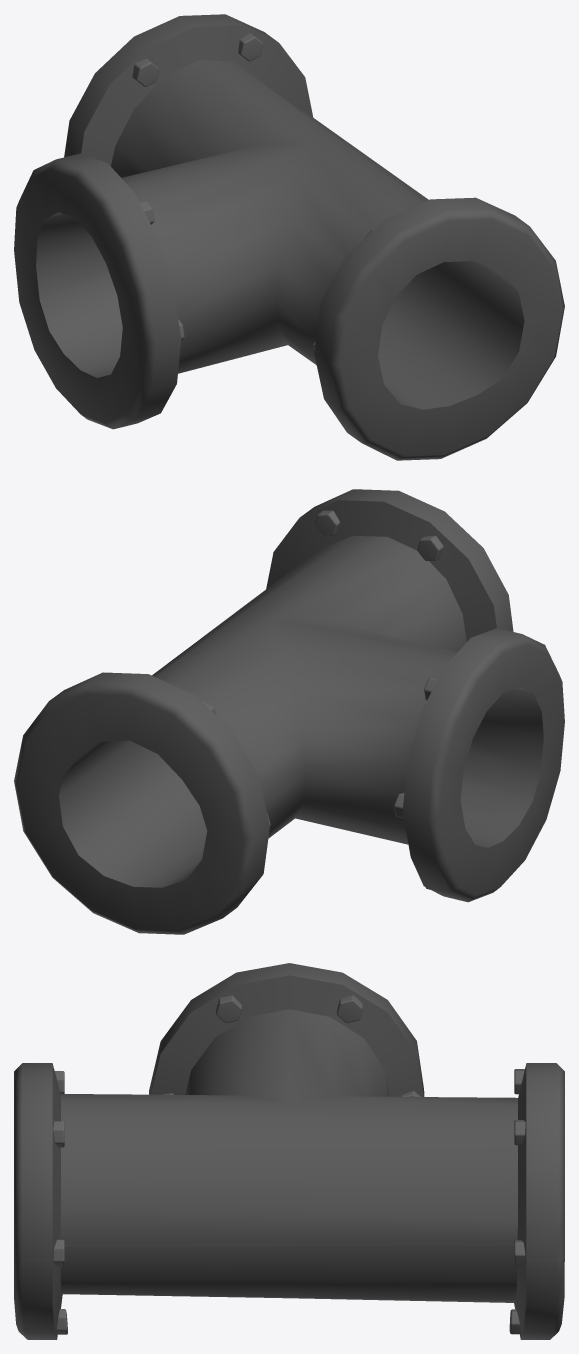
The model's file is SM_tuyau_T_low (1).fbx.
3 views of the same model, one above another, from view 1: azimuth 30°, elevation 25°; view 2: azimuth 150°, elevation 25°; view 3: azimuth 270°, elevation 25° (orthographic).
Visible parts, largest first — view 1: SM_tuyau_T_low; view 2: SM_tuyau_T_low; view 3: SM_tuyau_T_low.
Boxes of the visible parts, x1,y1,x2,y2 form: SM_tuyau_T_low: [14, 14, 564, 460]; SM_tuyau_T_low: [14, 489, 564, 934]; SM_tuyau_T_low: [14, 963, 564, 1339].
Bounding box in the file's own units: 0.3941 × 0.2644 × 0.5238.
Materials: 1 (1 with a texture image).
